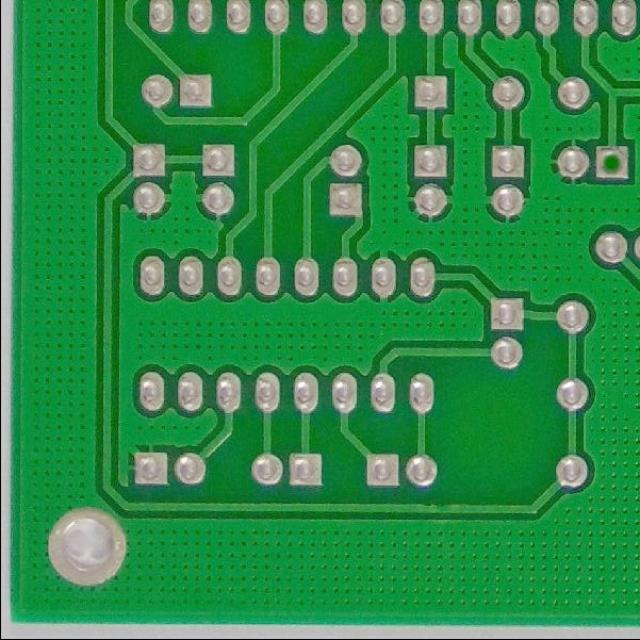Missing_Hole: (590, 141, 634, 182)
